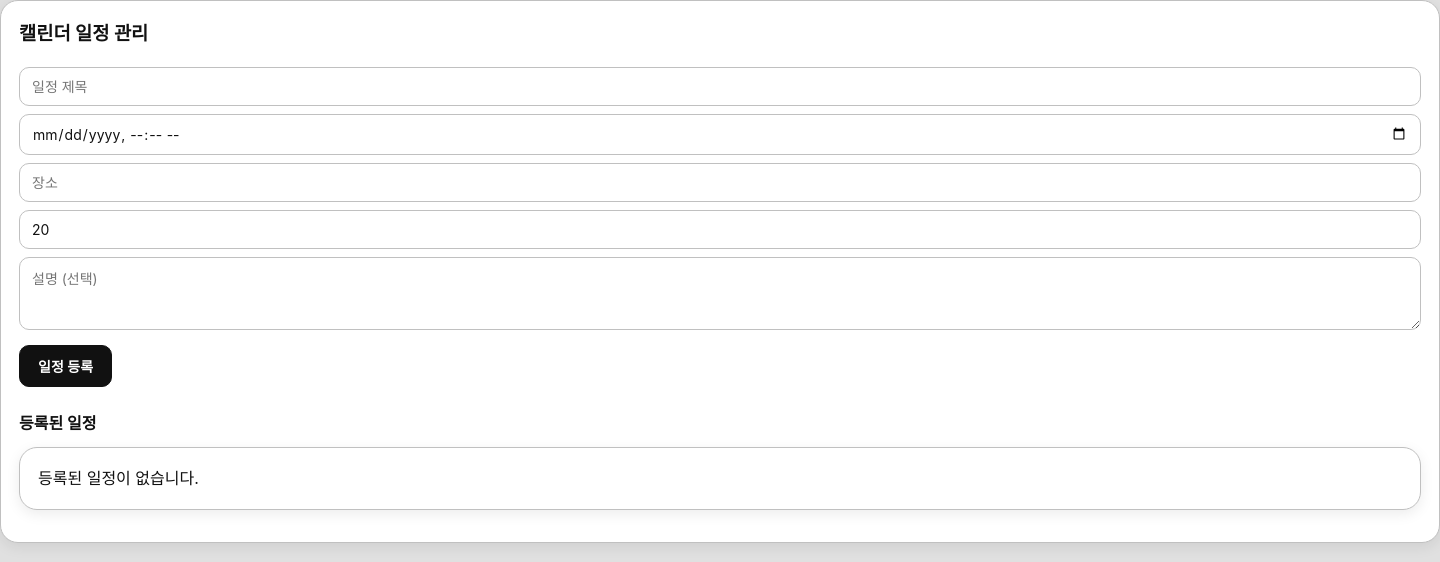
Test: SeminarAdmin › 등록 중에는 버튼을 비활성화한다
This screenshot has width=1440, height=562.
Type "특강" into the field with placeholder "일정 제목".
click(720, 86); type("특강")  # box [19,67,1421,106]
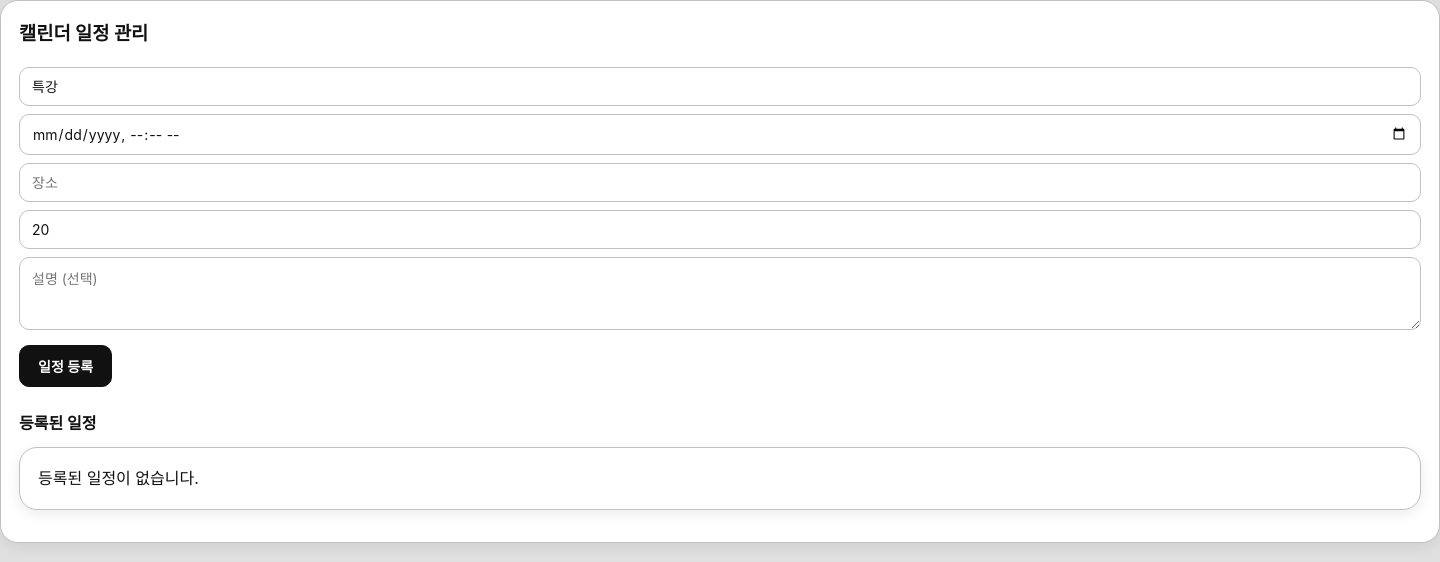
Type "2026-09-20T14:00" into the field named "일정 날짜 및 시간".
click(720, 134); type("2026-09-20T14:00")  # box [19,114,1421,155]
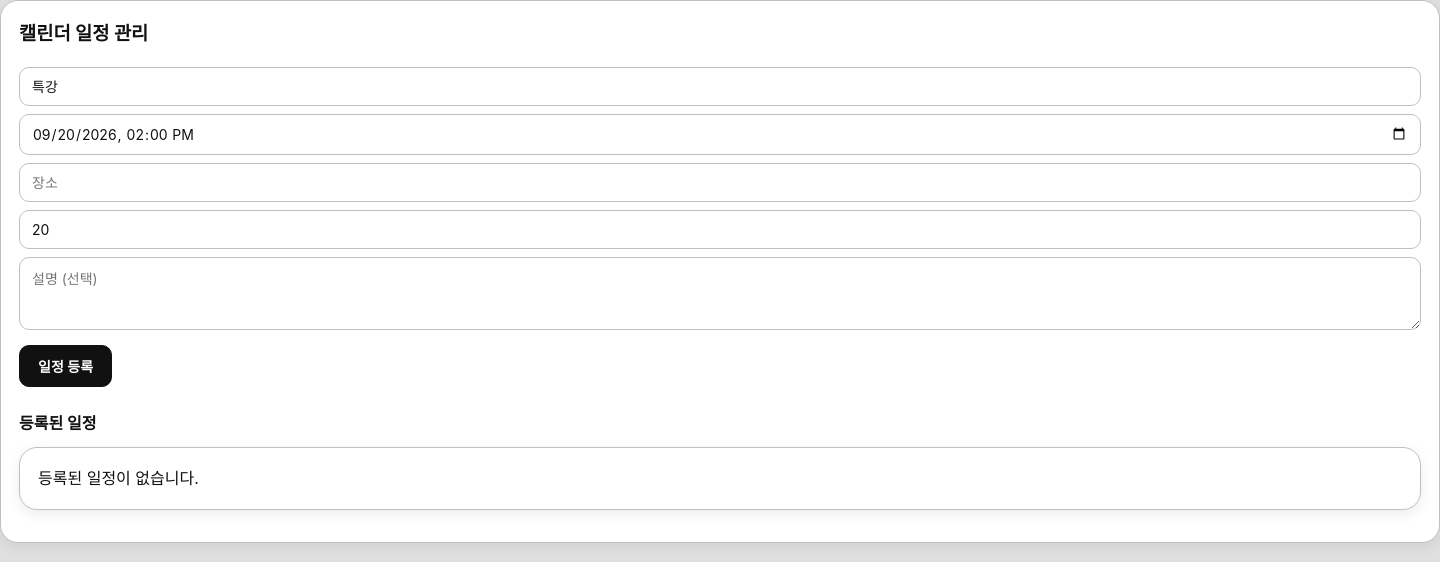
Click the button "일정 등록".
click(66, 366)  # box [19,344,112,386]
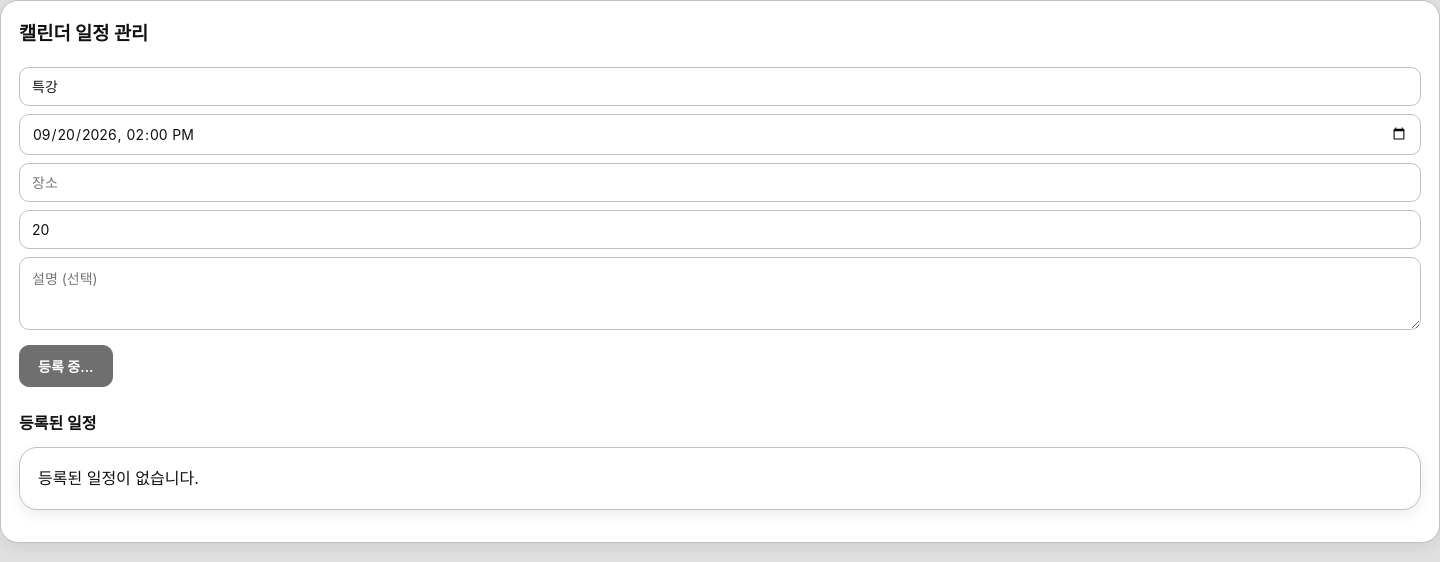
Now the button "등록 중..." is disabled, box [19,344,113,386]
